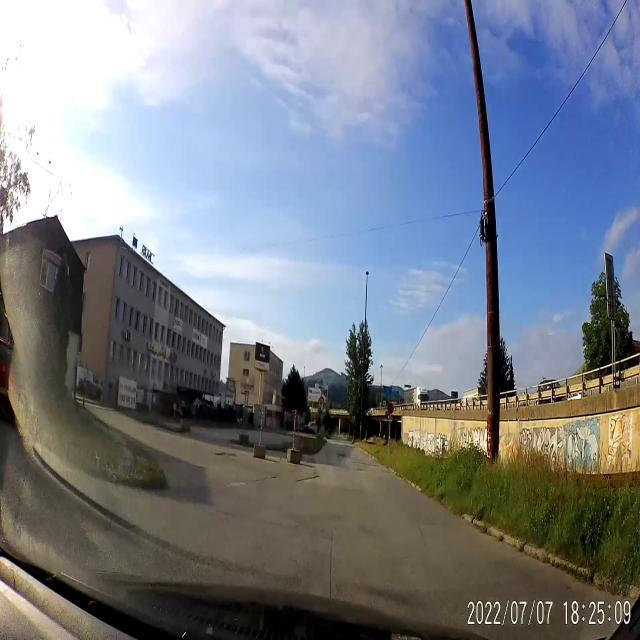Pothole: (214, 448, 238, 458), (337, 452, 349, 462)
